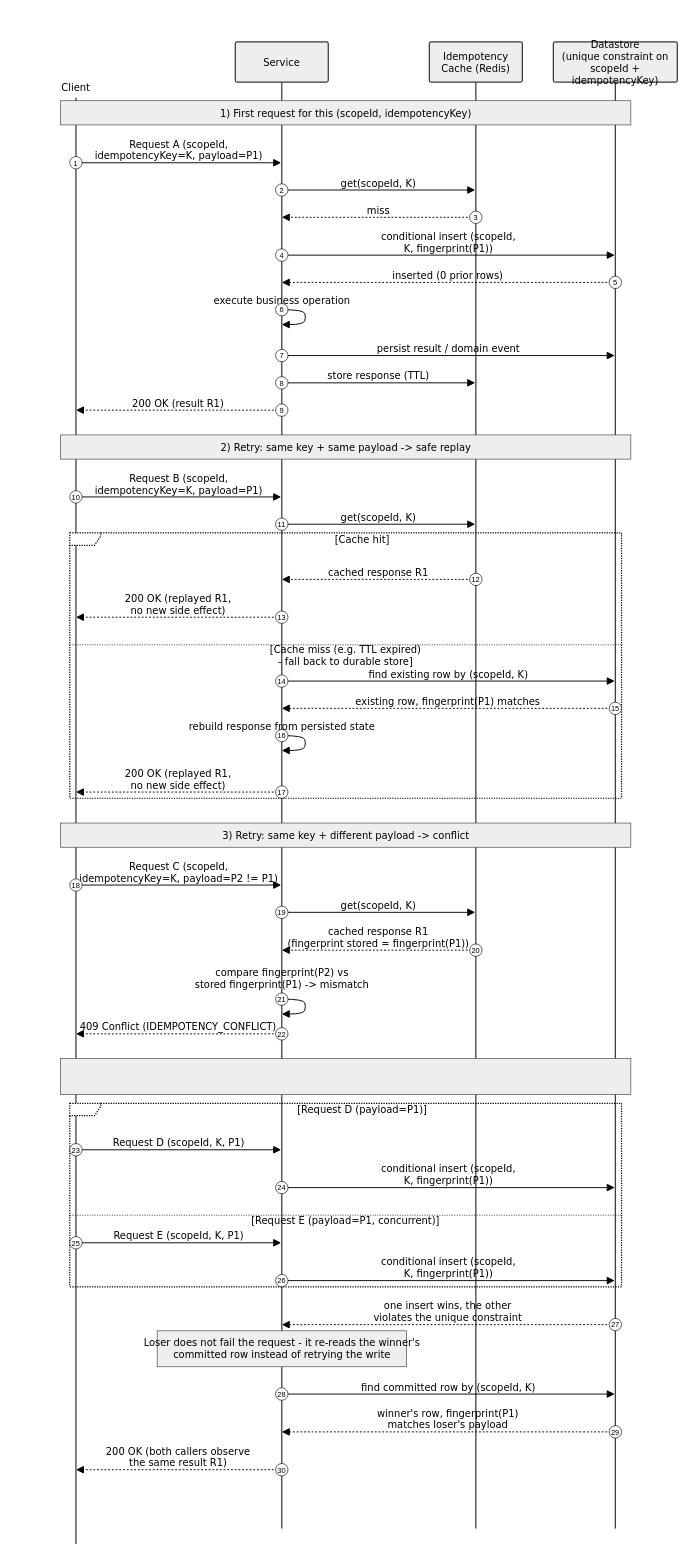
Image size: 688x1555. Some labels were removed from this diagram. Each missing label, with the box of its shape:
4) Concurrent race: two first-time requests, same key, at the same time: (60, 1058, 631, 1095)
alt: (69, 532, 622, 799)
par: (69, 1102, 622, 1287)
